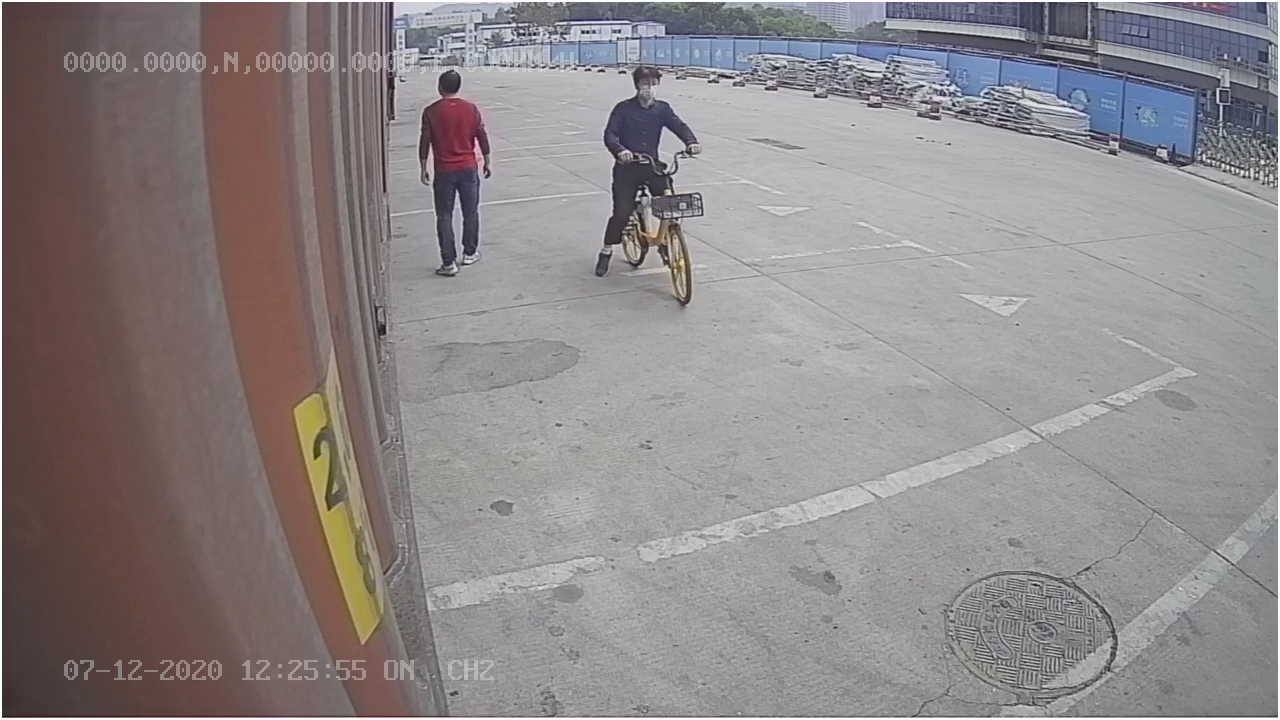person: (414, 65, 496, 282)
